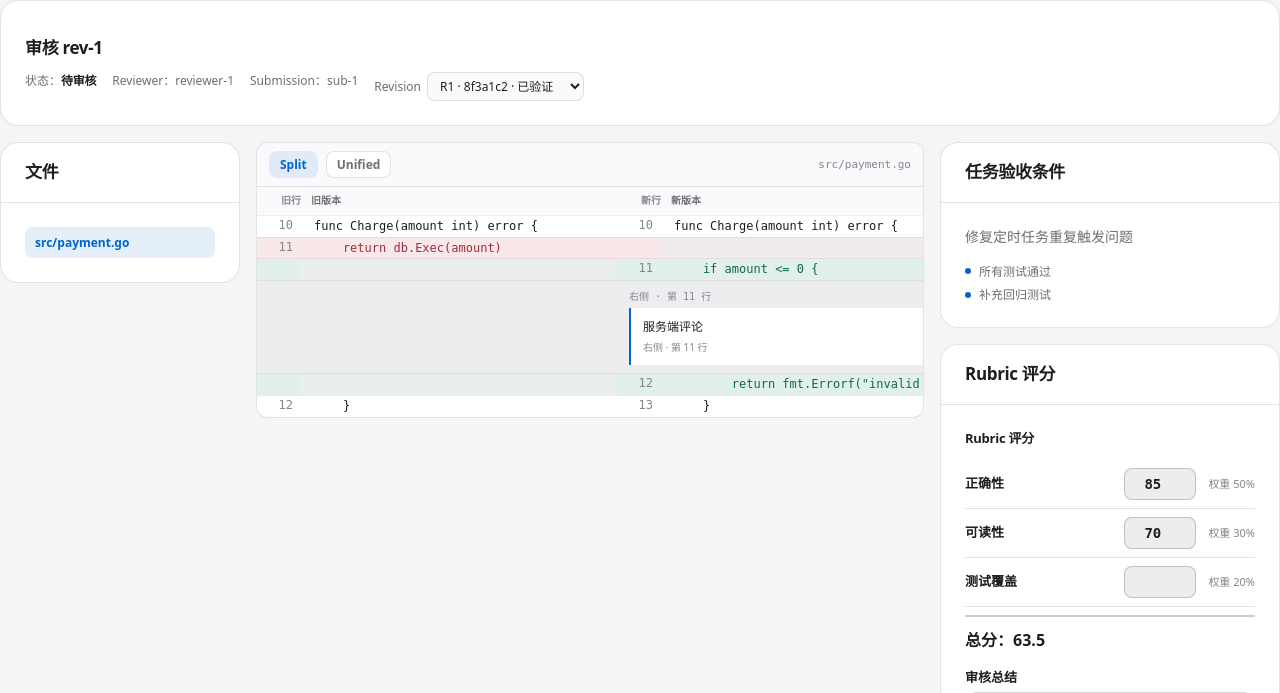
Test: ReviewPage › keeps locally added comments after a review refetch
Expected: the text "服务端评论" is shown, 643,318 -> 703,335
Click the button named "在右侧第 12 行添加评论": (639, 384) 617,374 -> 661,393
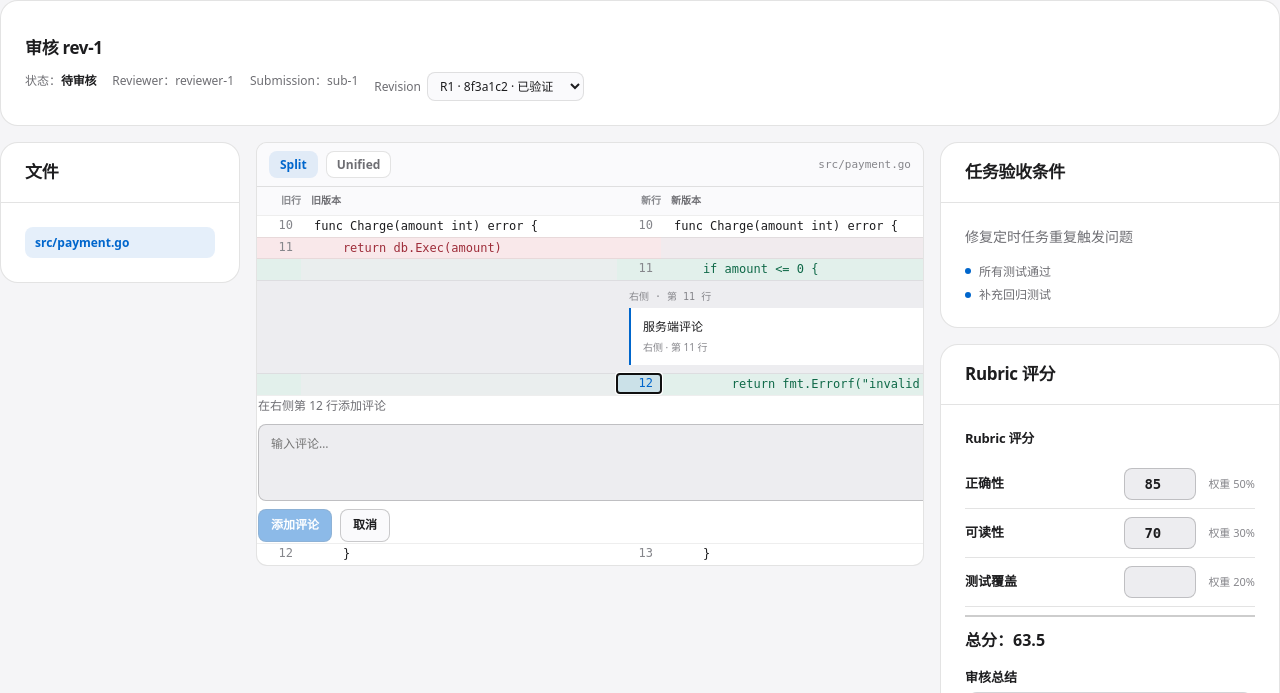
In the text box with placeholder "输入评论…": (617, 462) 258,424 -> 976,501, type "缺少 nil 检查"
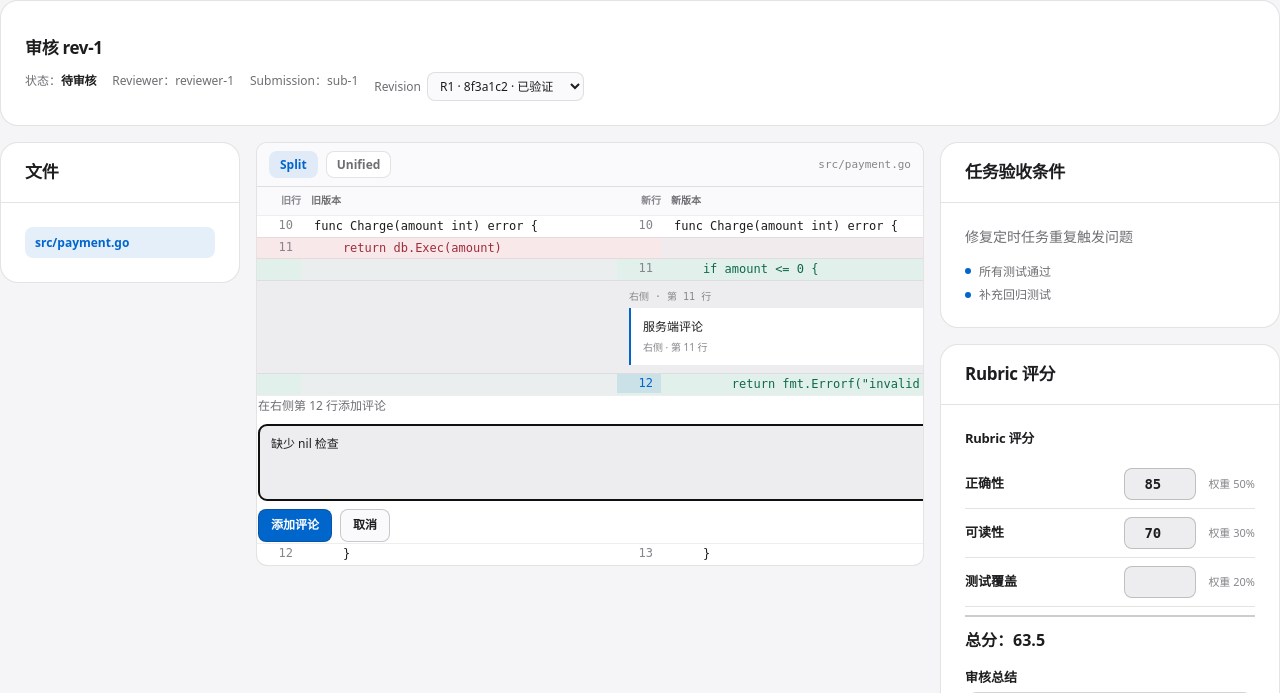
Click the button "添加评论": (295, 526) 258,509 -> 332,542
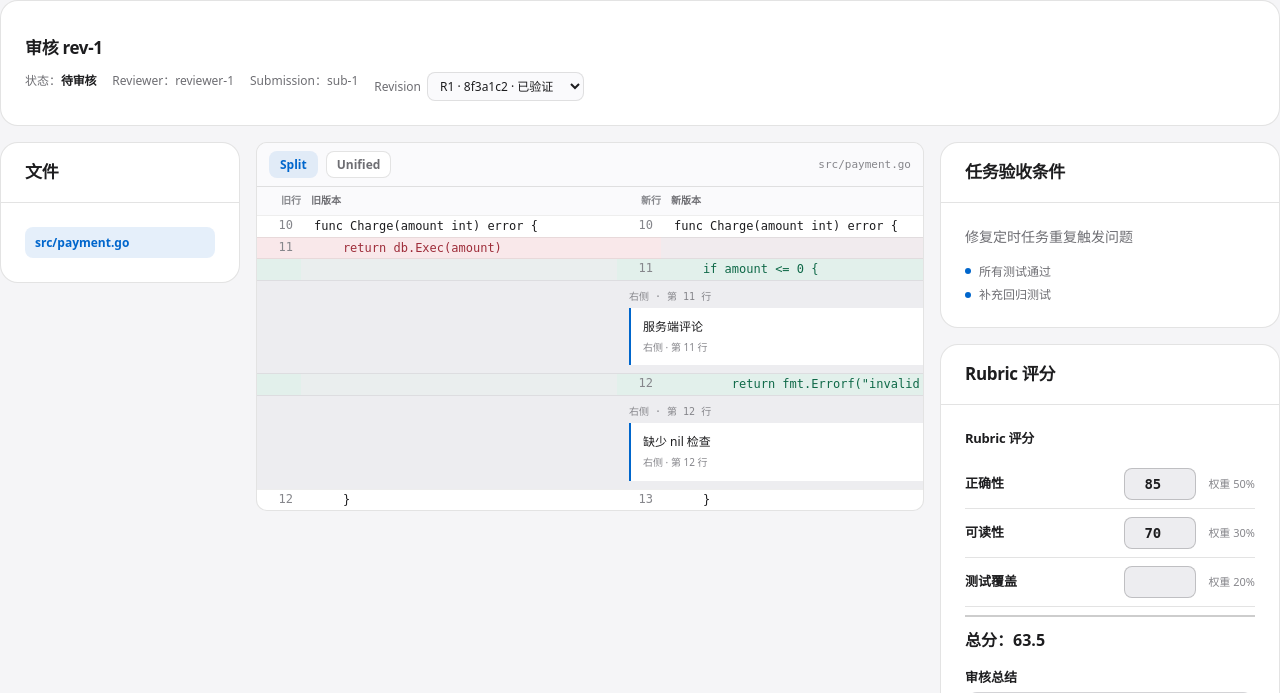
Expected: the text "服务端评论" is shown, 643,318 -> 703,335
Expected: the text "缺少 nil 检查" is shown, 643,434 -> 711,450
